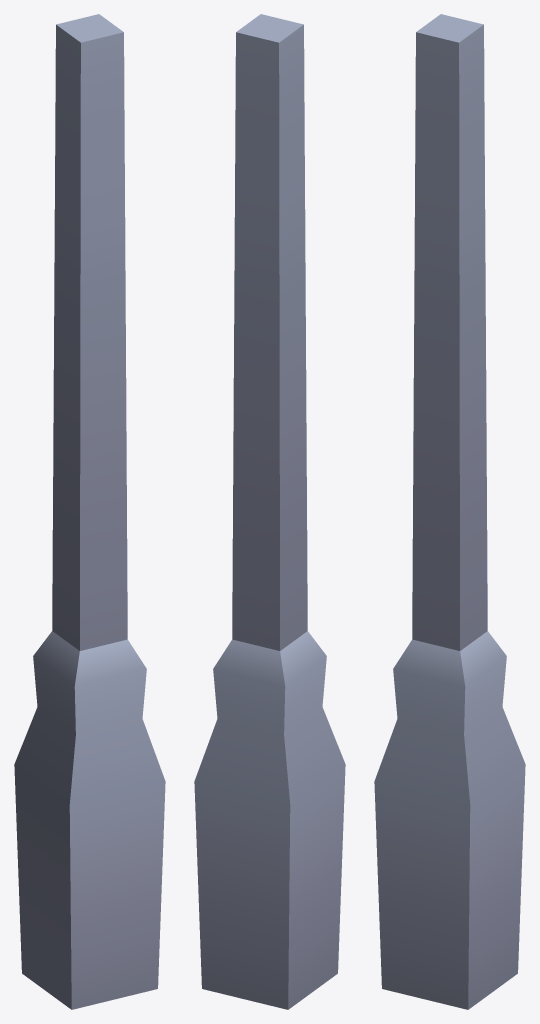
The model's file is road_road_sign_empty.glb.
3 renders of one model, left to right at view 1: azimuth 30°, elevation 25°; view 2: azimuth 150°, elevation 25°; view 3: azimuth 330°, elevation 25°, orthographic.
Visible parts, largest first — view 1: road-sign-empty; view 2: road-sign-empty; view 3: road-sign-empty.
Boxes of the visible parts, x1=… form: road-sign-empty: x1=14, y1=14, x2=165, y2=1009; road-sign-empty: x1=194, y1=14, x2=345, y2=1009; road-sign-empty: x1=374, y1=14, x2=525, y2=1009.
Size of the model in its own units: 0.05 by 0.475 by 0.05.
Materials: 1 (1 with a texture image).
